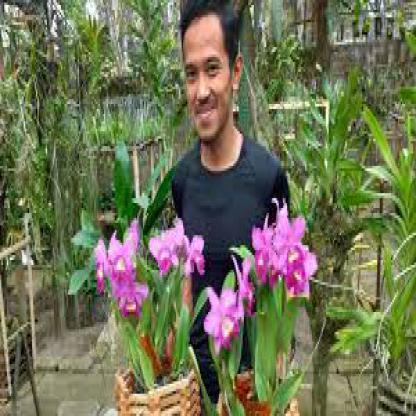ANGGREK: (84, 127, 348, 360)
